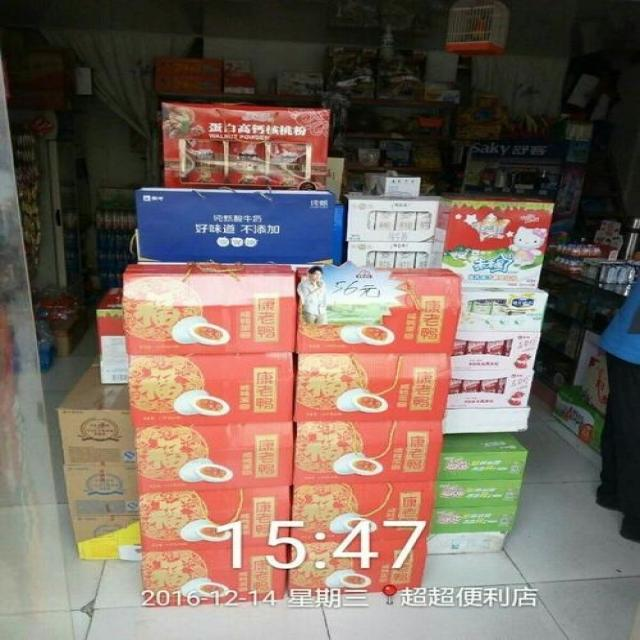box: (123, 264, 295, 354), (136, 187, 336, 264), (162, 102, 330, 191), (296, 268, 461, 353), (129, 353, 294, 427), (427, 197, 555, 289), (134, 422, 293, 493), (293, 353, 451, 422), (138, 486, 290, 552), (293, 421, 443, 485), (56, 353, 135, 466), (141, 546, 286, 607), (292, 482, 432, 543), (288, 537, 427, 597), (344, 195, 441, 242), (438, 433, 528, 481), (458, 288, 548, 331), (63, 466, 139, 516), (449, 331, 541, 370), (448, 370, 534, 408), (96, 288, 130, 384), (70, 516, 141, 559), (431, 479, 524, 508), (430, 506, 518, 534), (347, 241, 431, 268), (442, 408, 531, 433), (424, 531, 510, 555), (335, 202, 348, 268)
